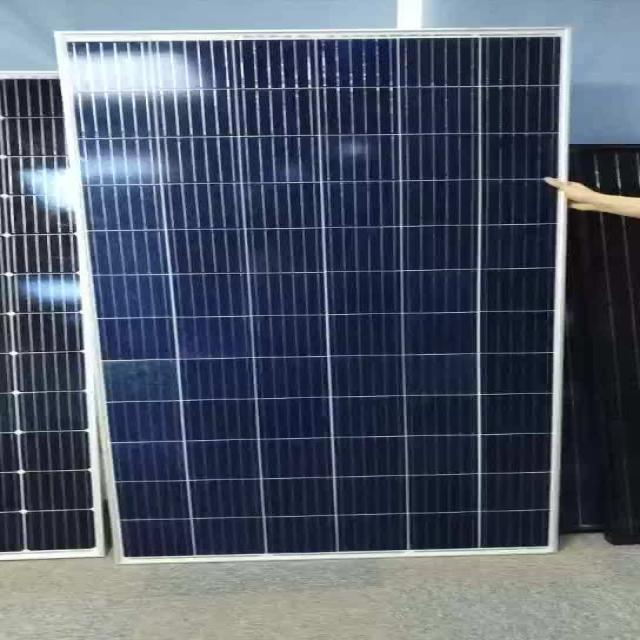clean-solar-panel: (57, 29, 567, 562)
